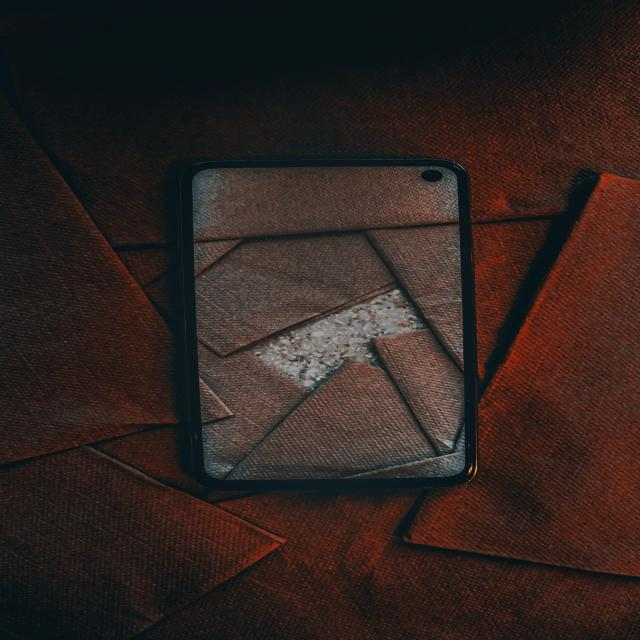Mobile: (176, 153, 501, 503)
